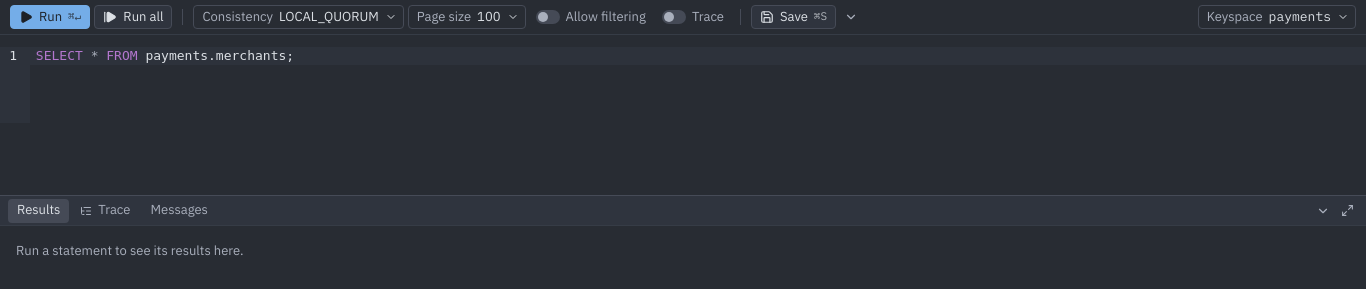
QueryView › cancels a running statement
Step 1. Click the button "Run ⌘↵" → (50, 17), box [10,5,90,29]
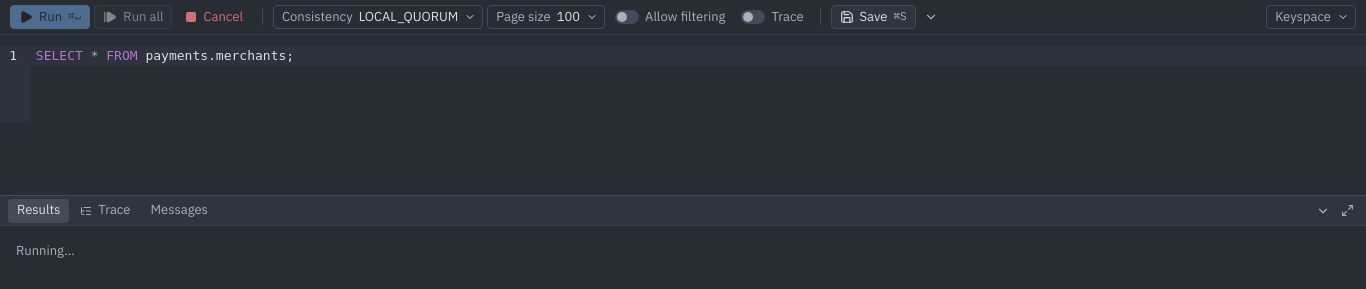
Step 2. Click the button "Cancel" → (214, 17), box [176,5,252,29]
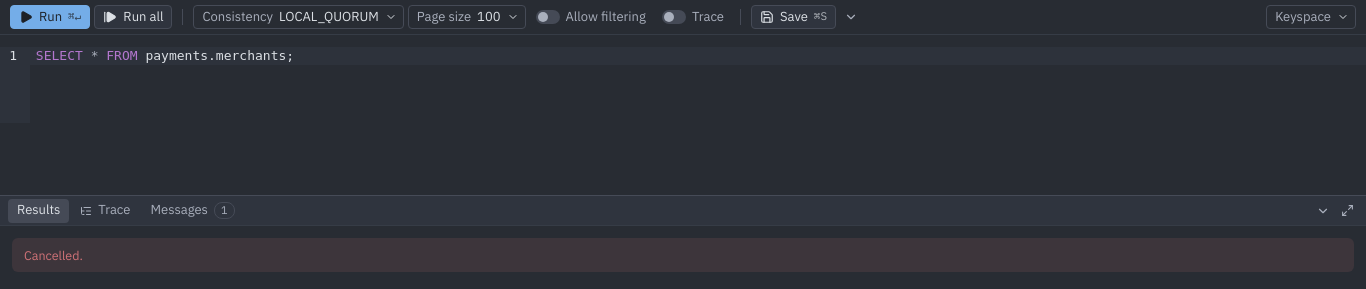
Now the text "Cancelled." is shown, box [12,238,1354,272]
